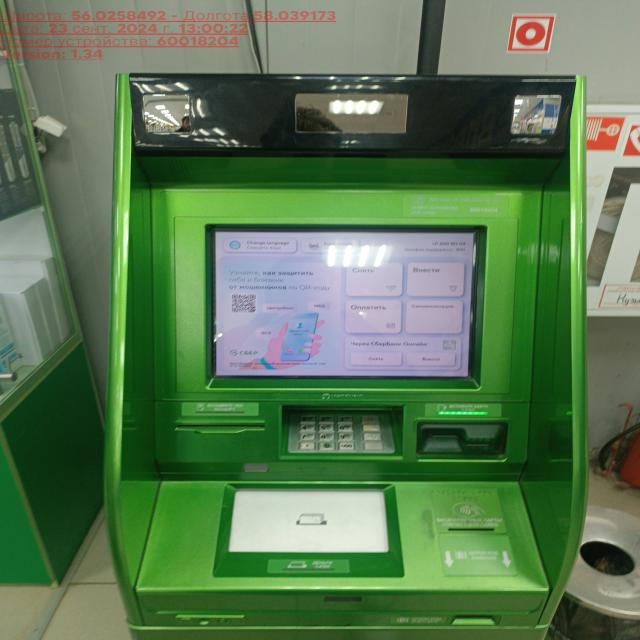bank: (102, 72, 588, 640)
